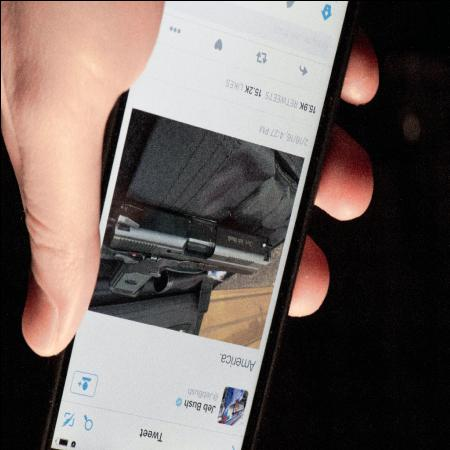Pistol: (104, 198, 274, 298)
